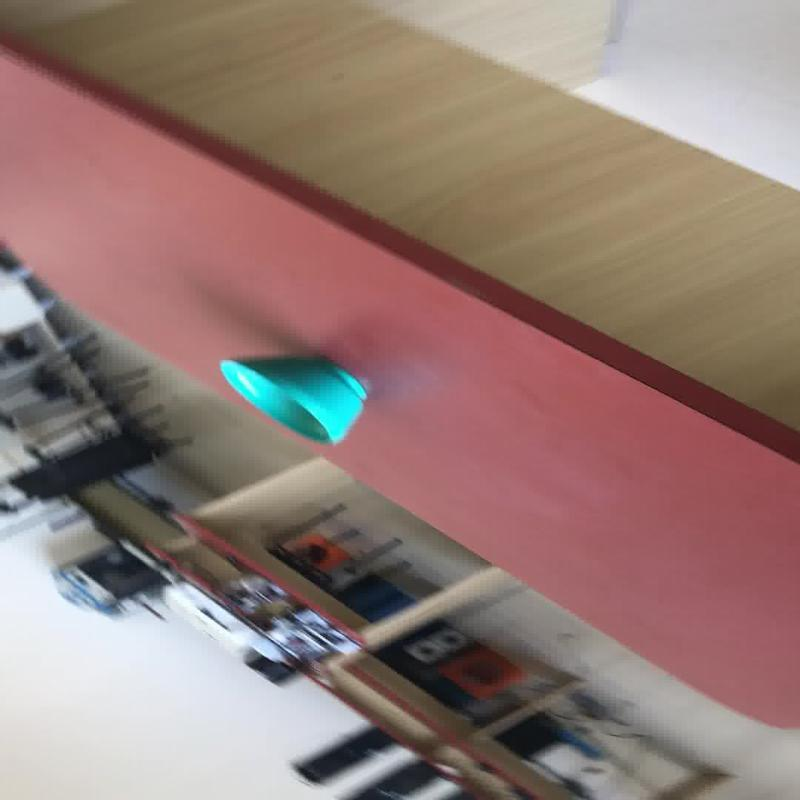bowl: (217, 353, 368, 446)
